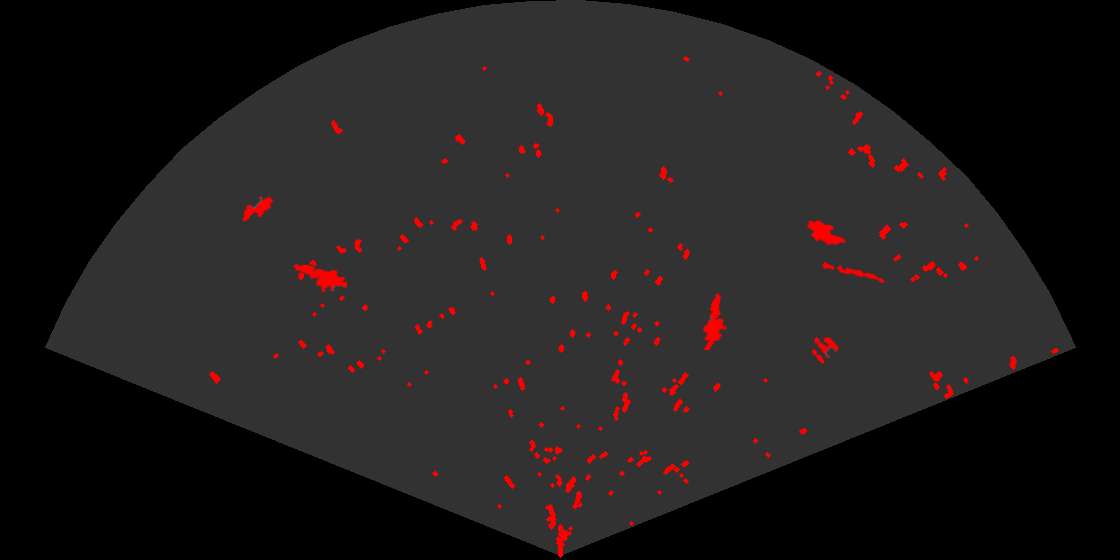AUV: (805, 218, 848, 247), (241, 195, 275, 223)
ball: (810, 335, 840, 365)
chain: (820, 260, 887, 285)
frogman: (293, 263, 347, 295), (701, 291, 728, 350)
